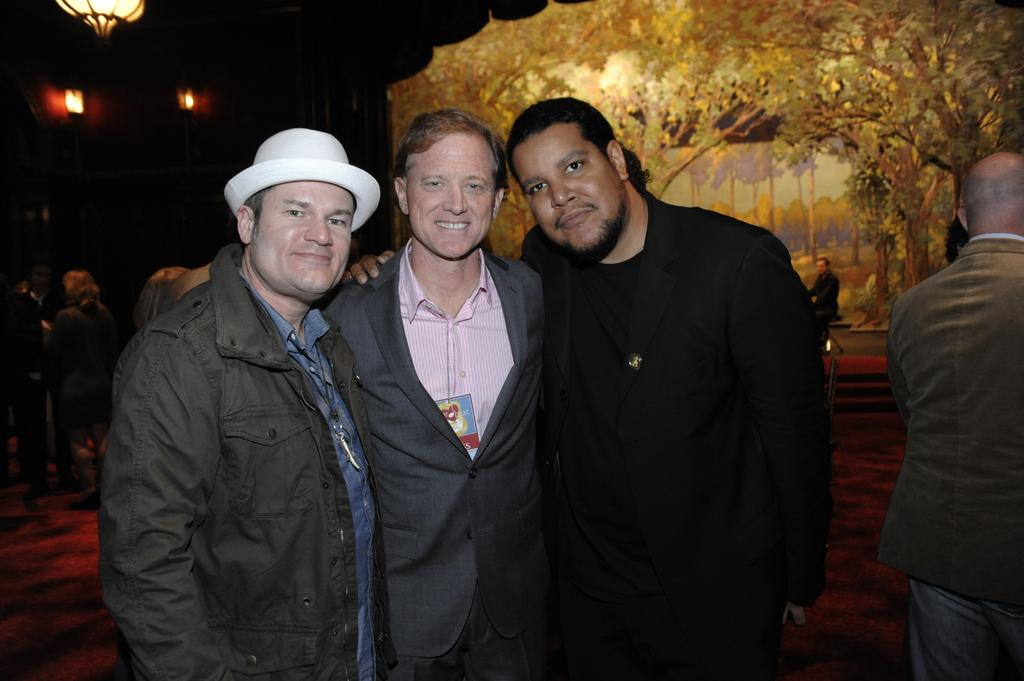Hat: (222, 119, 380, 237)
